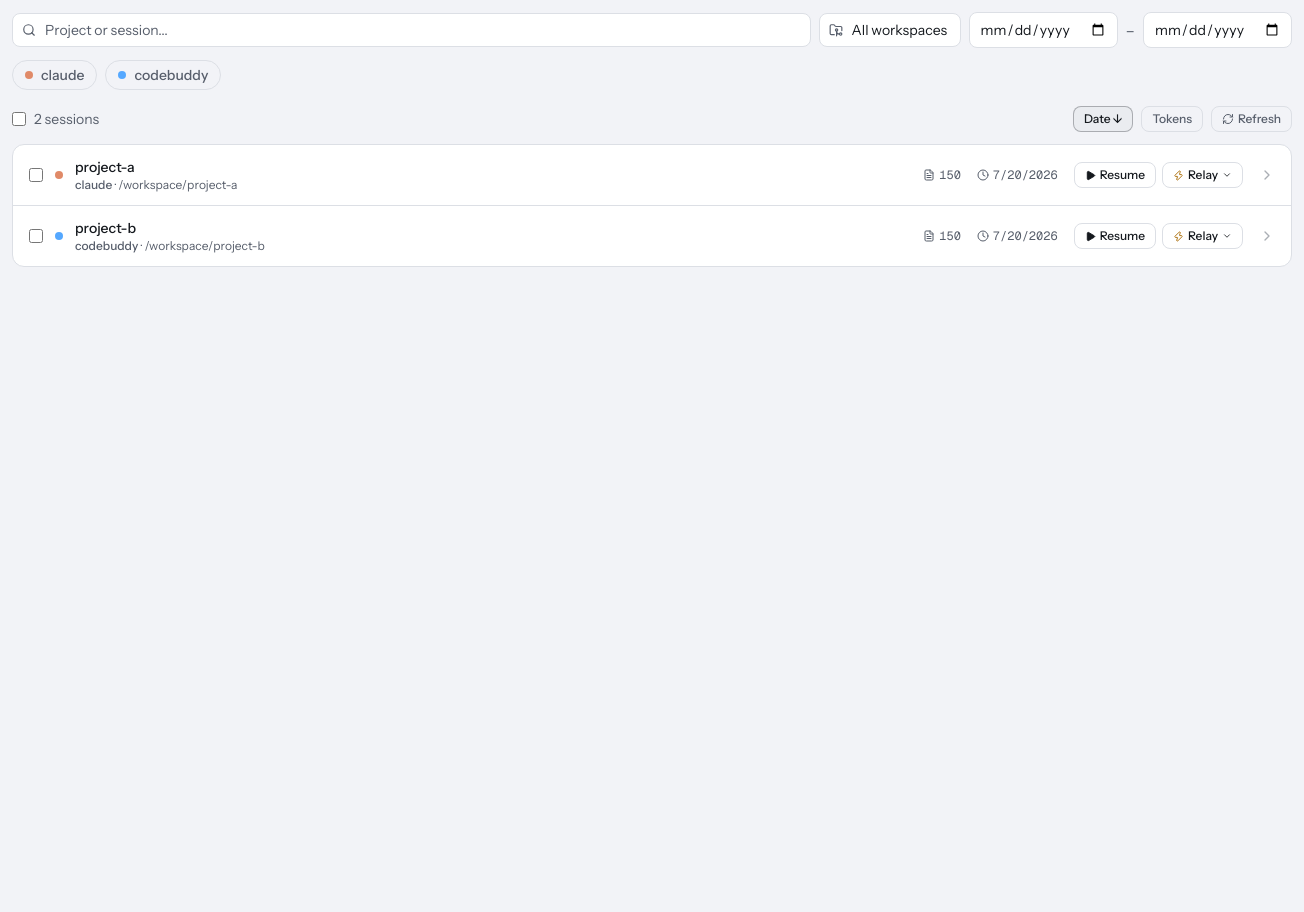
Scenario: SessionsPage session detail › closing the panel returns to the plain list
Expected: the text "2 sessions" is shown, [12,109,99,129]
Click the button with aria-label "Open session session-a": (105, 167) [29,158,1275,192]
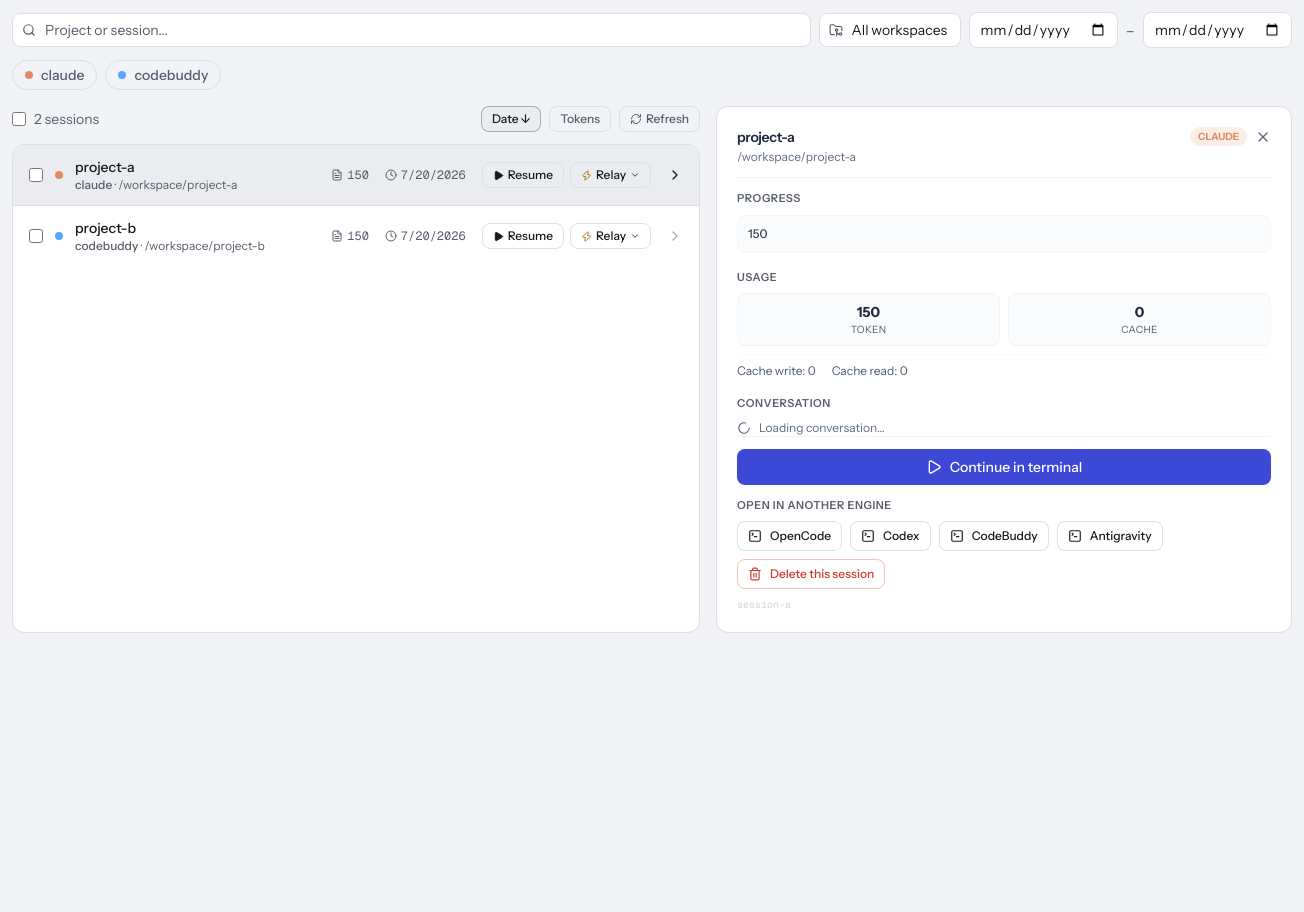
Click the button named "Close session details": (1263, 136) [1255,128,1271,144]
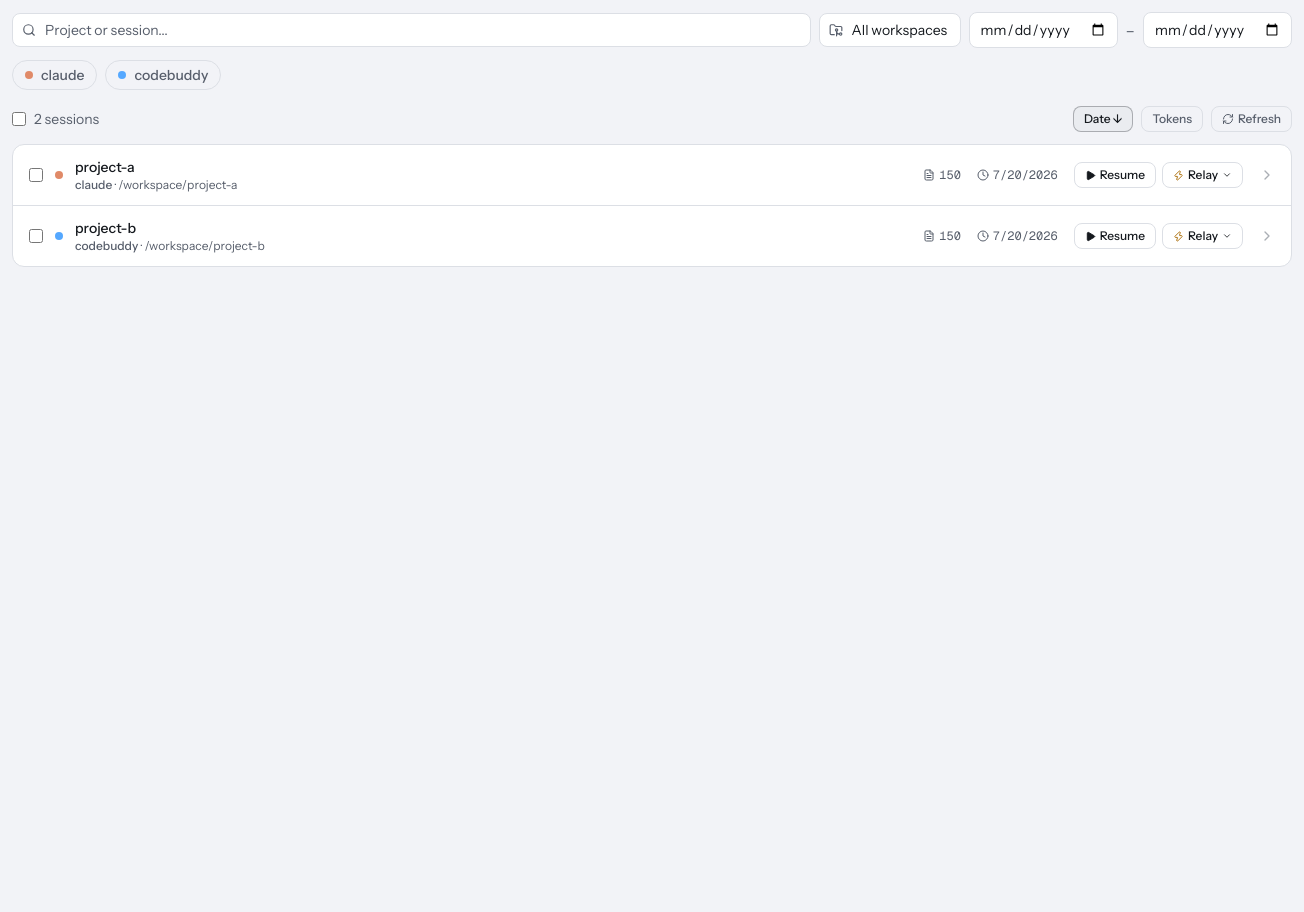
Now the element with test id "session-detail" is gone
